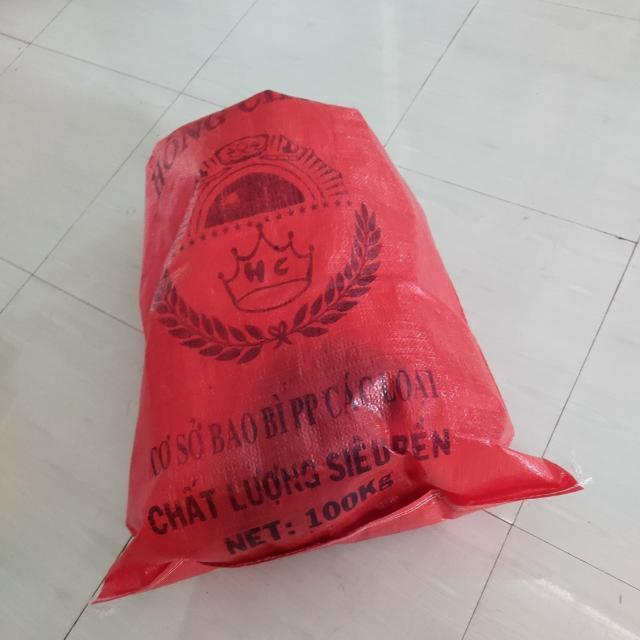gunny_bag: (96, 92, 580, 603)
